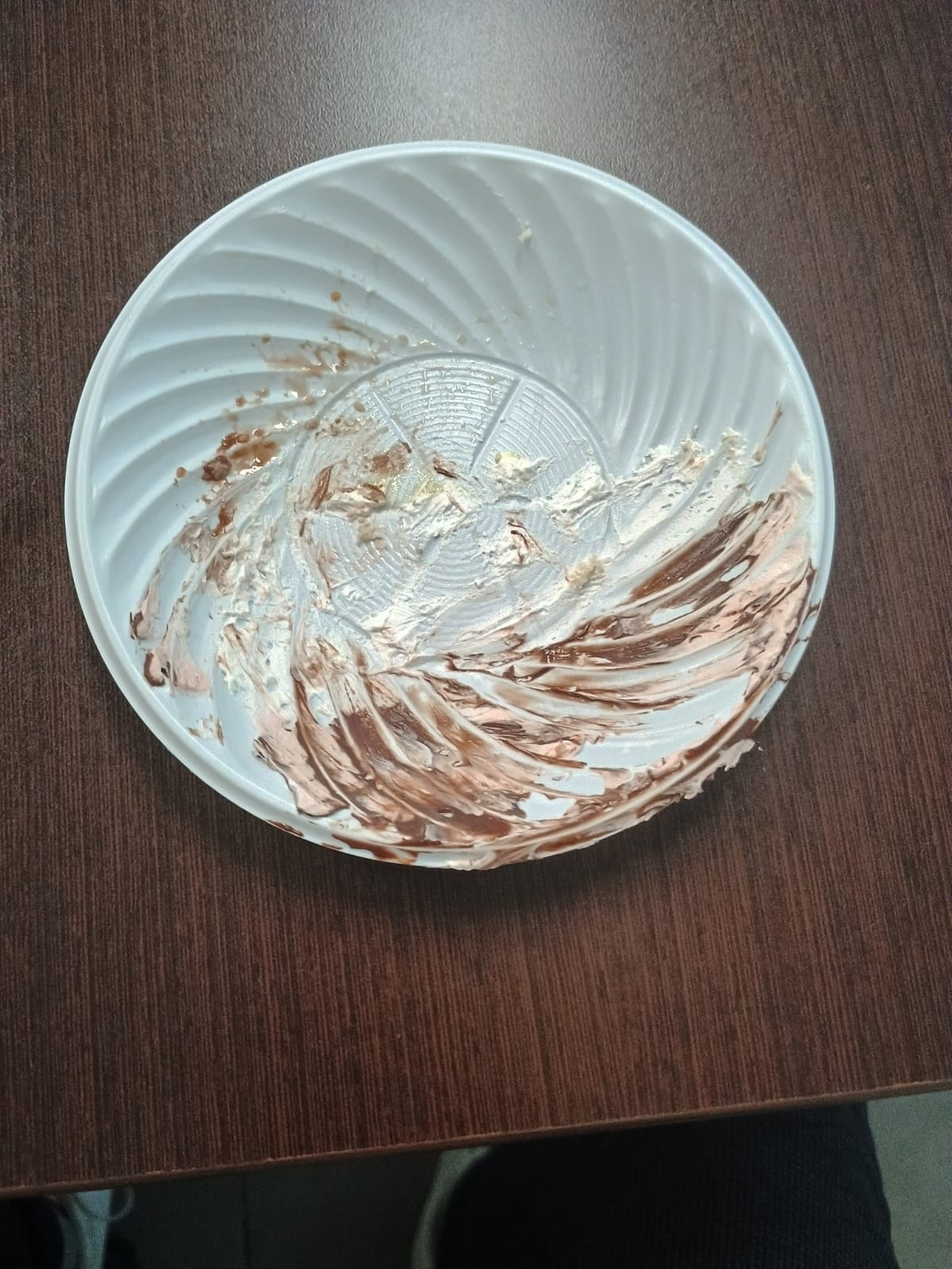Ordinario: (62, 140, 837, 876)
